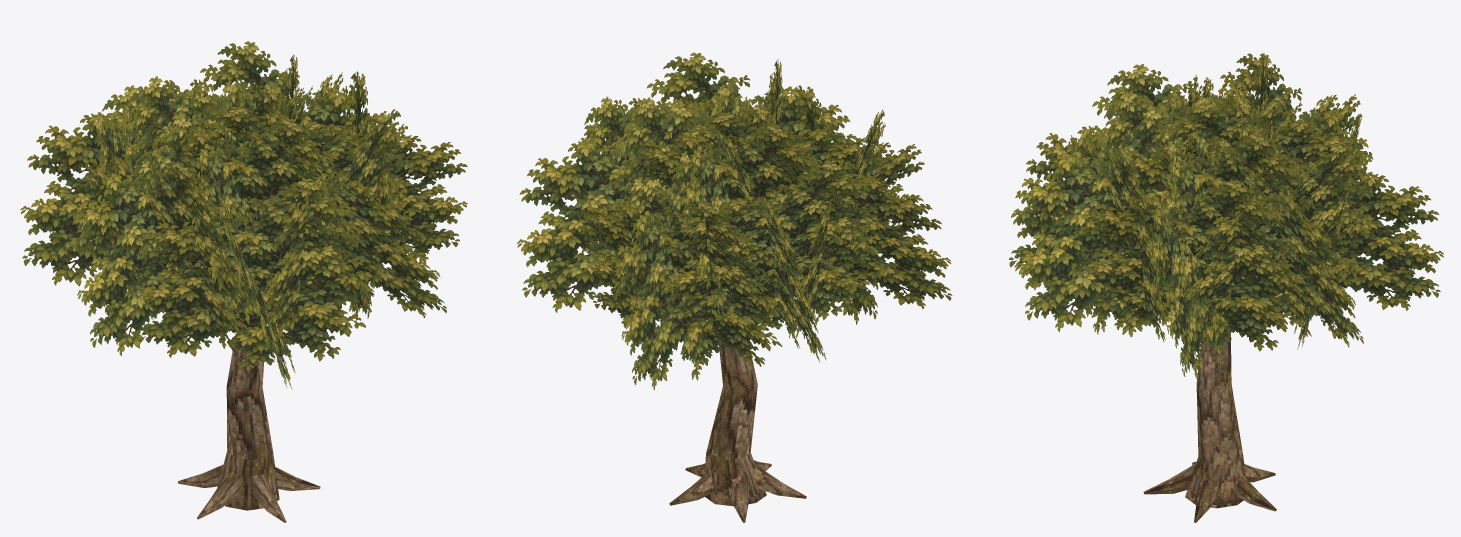
The model's file is courtyard-tree.glb.
3 renders of one model, left to right at view 1: azimuth 30°, elevation 25°; view 2: azimuth 150°, elevation 25°; view 3: azimuth 270°, elevation 25°, orthographic. The views are drawn at different scales.
Visible parts, largest first — view 1: courtyard-tree-foliage, courtyard-tree-bark; view 2: courtyard-tree-foliage, courtyard-tree-bark; view 3: courtyard-tree-foliage, courtyard-tree-bark.
Boxes of the visible parts, <box> form: courtyard-tree-foliage: <box>20,41,467,389</box>; courtyard-tree-bark: <box>178,275,320,522</box>; courtyard-tree-foliage: <box>517,52,952,389</box>; courtyard-tree-bark: <box>669,252,806,522</box>; courtyard-tree-foliage: <box>1009,53,1443,379</box>; courtyard-tree-bark: <box>1143,234,1327,522</box>.
Size of the model in its own units: 2.72 by 2.69 by 2.69.
Materials: 2 (2 with a texture image).
